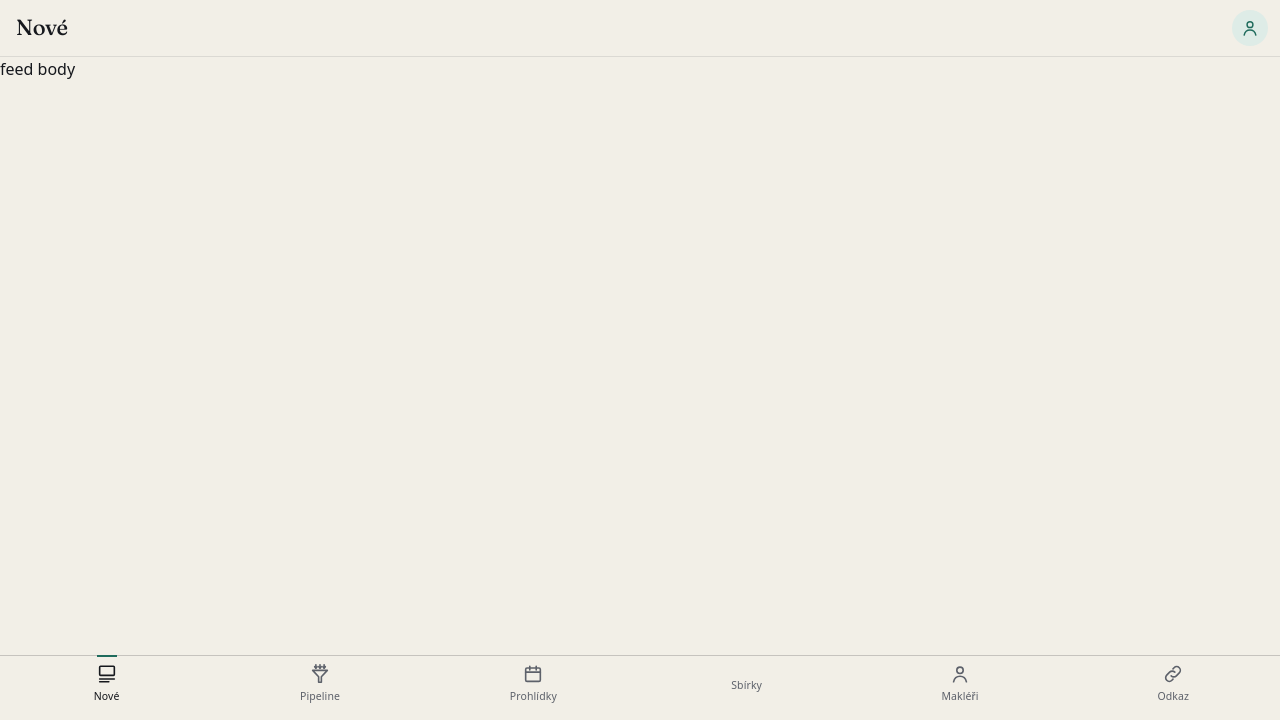
the push switch in the account sheet › is not drawn where the plan hides notifications
Click the button named "Účet": (1250,28) [1232,10,1268,46]
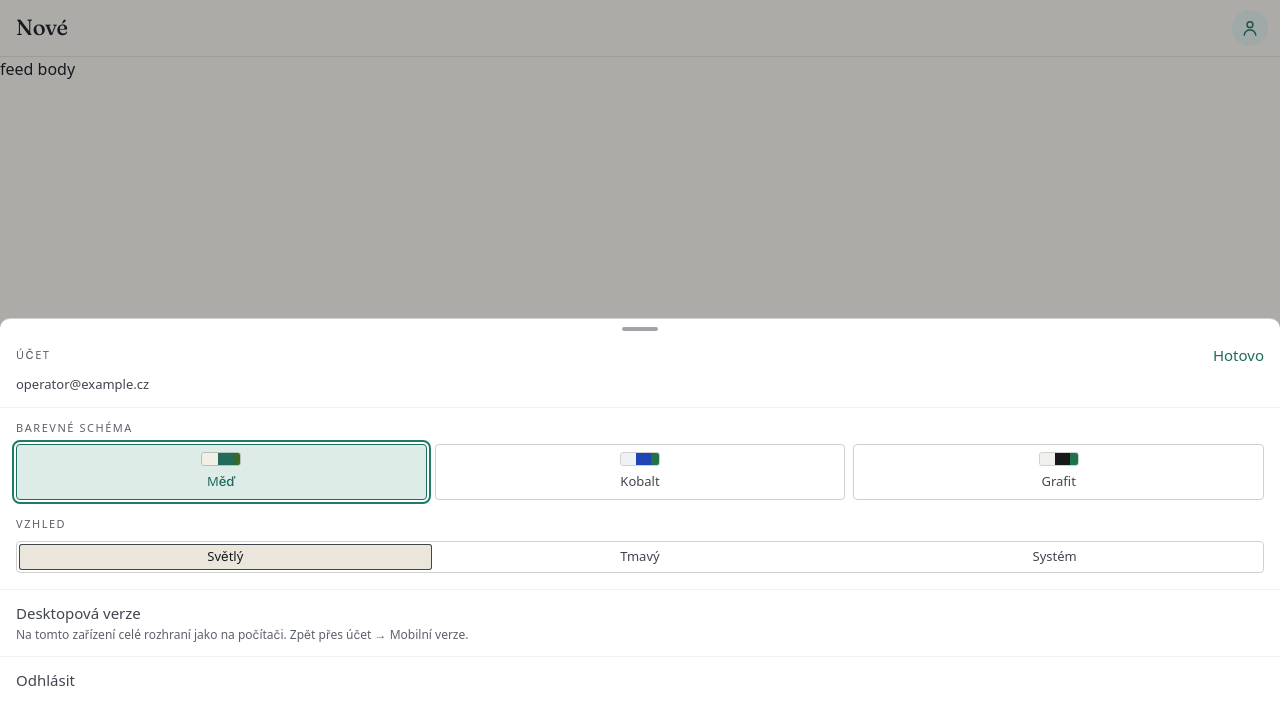
expect the button "Odhlásit" is shown: met, box [0,656,1279,704]
